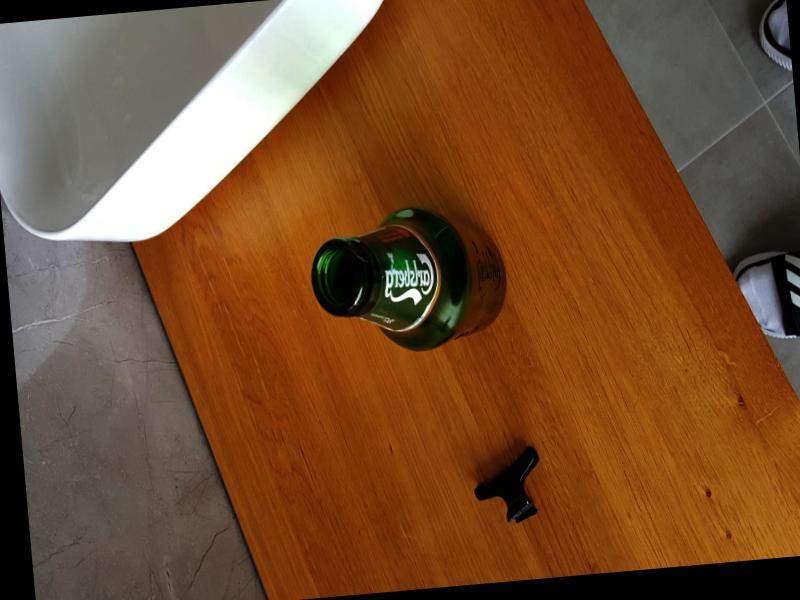Beer: (307, 197, 512, 359)
